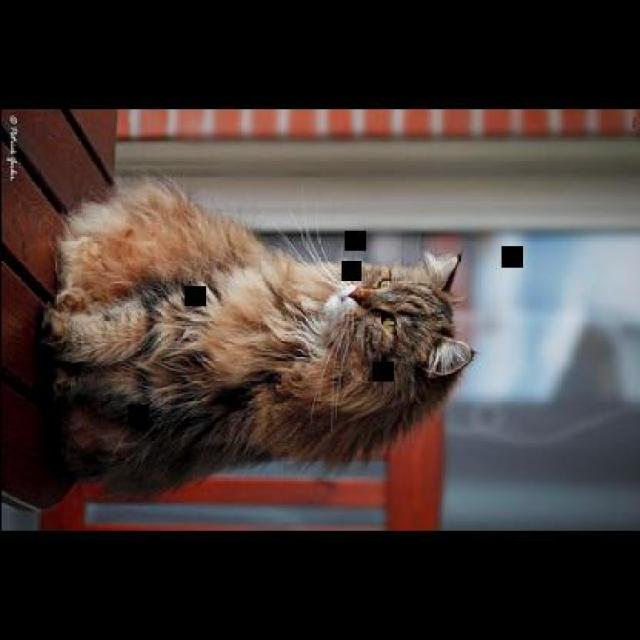unauthorized: (40, 172, 475, 498)
